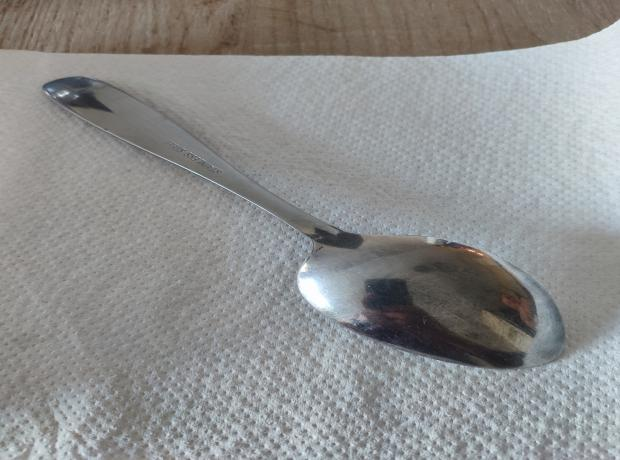metal: (43, 75, 570, 368)
